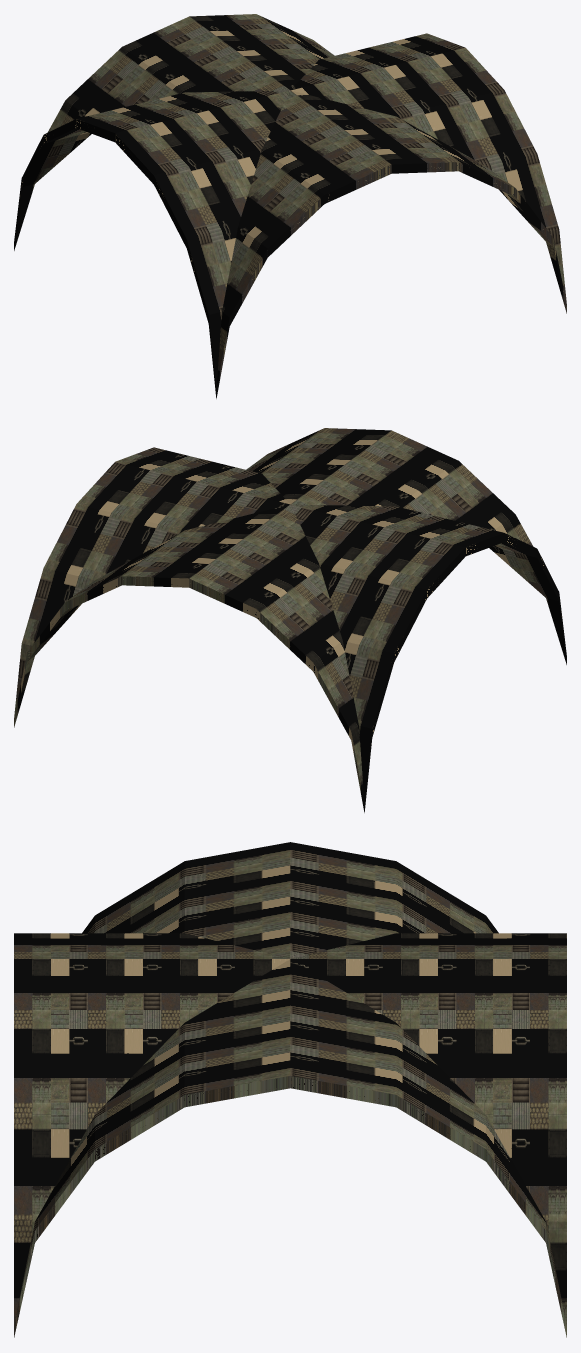
Rendered from arch_roof.glb.
3 renders of one model, top to bottom at view 1: azimuth 30°, elevation 25°; view 2: azimuth 150°, elevation 25°; view 3: azimuth 270°, elevation 25°, orthographic. The views are drawn at different scales.
Parts seen in each view (by area): view 1: Cylinder.022; view 2: Cylinder.022; view 3: Cylinder.022.
Boxes of the visible parts, left/top/right/bottom form: Cylinder.022: left=14, top=14, right=566, bottom=398; Cylinder.022: left=14, top=428, right=566, bottom=812; Cylinder.022: left=14, top=842, right=566, bottom=1337.
Bounding box in the file's own units: 4 × 2.1 × 4.
1 material, 1 textured.
